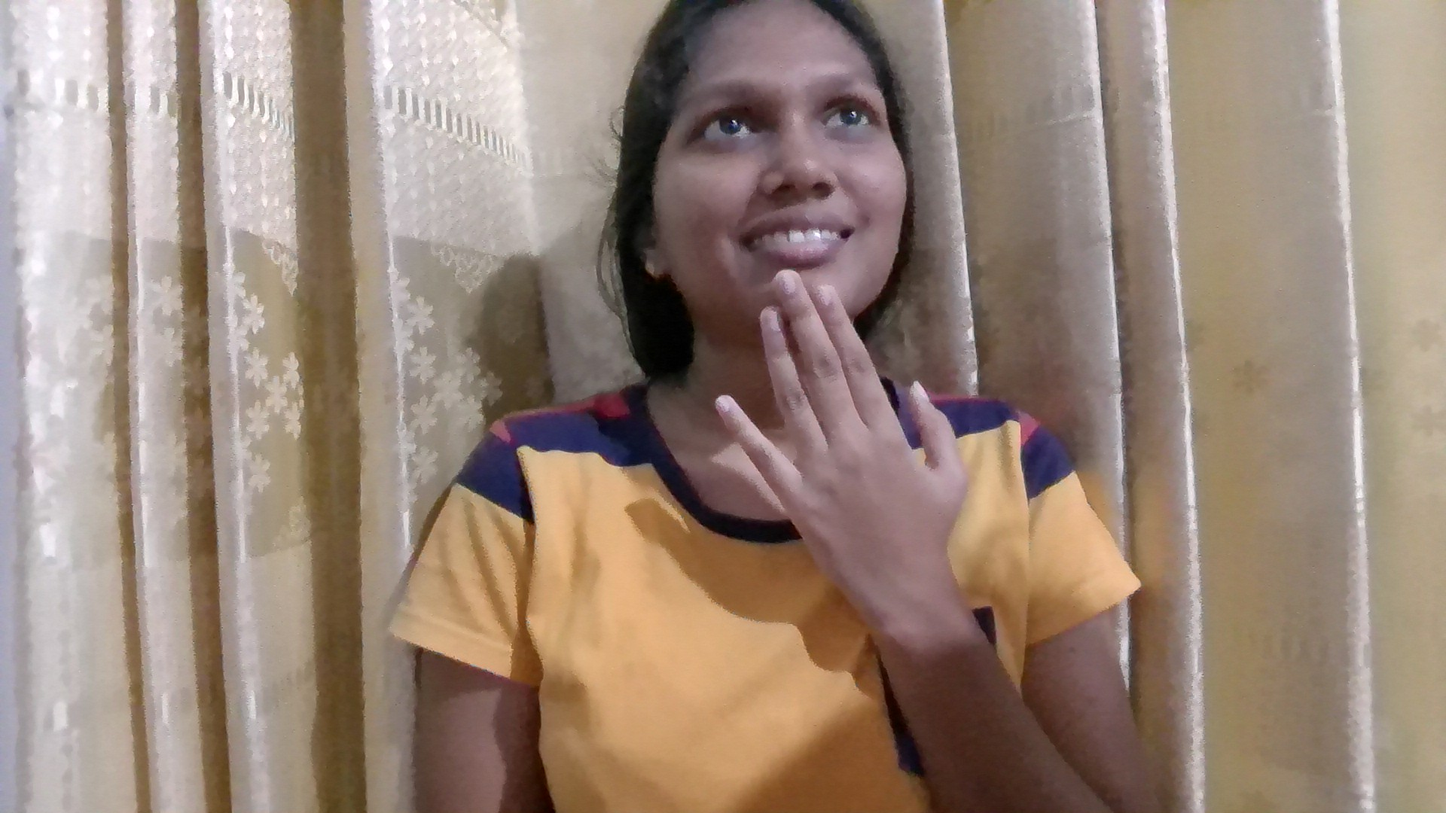Thank You: (650, 256, 1052, 605)
